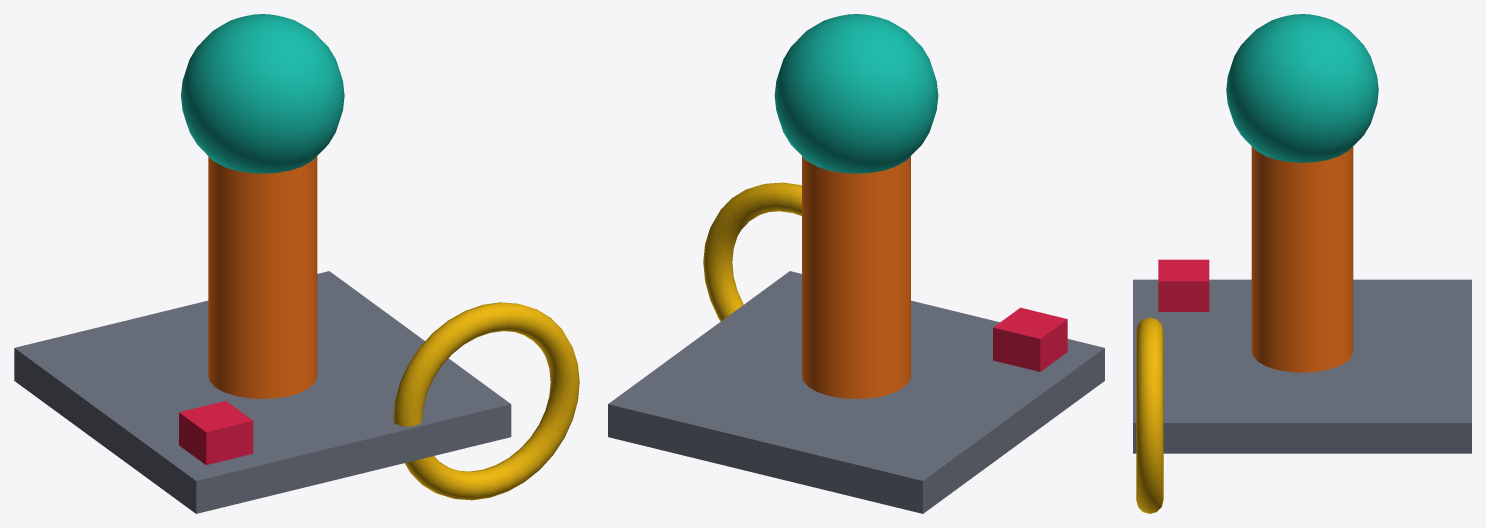
3 views of the same model, side by side, from view 1: azimuth 30°, elevation 25°; view 2: azimuth 150°, elevation 25°; view 3: azimuth 270°, elevation 25° (orthographic). The views are drawn at different scales.
Visible parts, largest first — view 1: BasePlate, Column, Cap, Ring, Bolt; view 2: BasePlate, Column, Cap, Ring, Bolt; view 3: BasePlate, Column, Cap, Ring, Bolt.
Part boxes in pixels (<box>): BasePlate: <box>14,271,511,513</box>; Column: <box>208,156,317,398</box>; Cap: <box>181,14,344,173</box>; Ring: <box>393,302,579,500</box>; Bolt: <box>179,401,253,465</box>; BasePlate: <box>608,271,1104,513</box>; Column: <box>802,156,910,398</box>; Cap: <box>774,14,938,173</box>; Ring: <box>703,182,801,321</box>; Bolt: <box>993,307,1067,371</box>; BasePlate: <box>1133,279,1471,453</box>; Column: <box>1251,146,1353,372</box>; Cap: <box>1226,14,1378,162</box>; Ring: <box>1136,317,1163,513</box>; Bolt: <box>1158,259,1209,311</box>.
Bounding box in the file's own units: 2.48 × 2.73 × 2.
